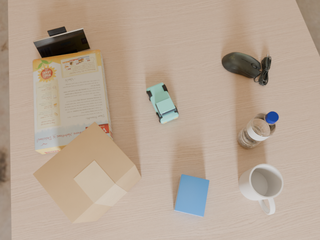bottle: (238, 112, 279, 149)
box: (33, 122, 141, 223), (33, 49, 113, 154), (174, 174, 209, 217)
cup: (239, 164, 283, 215)
mouse: (222, 52, 271, 86)
phone: (33, 28, 90, 58)
toy_car: (146, 83, 178, 124)
